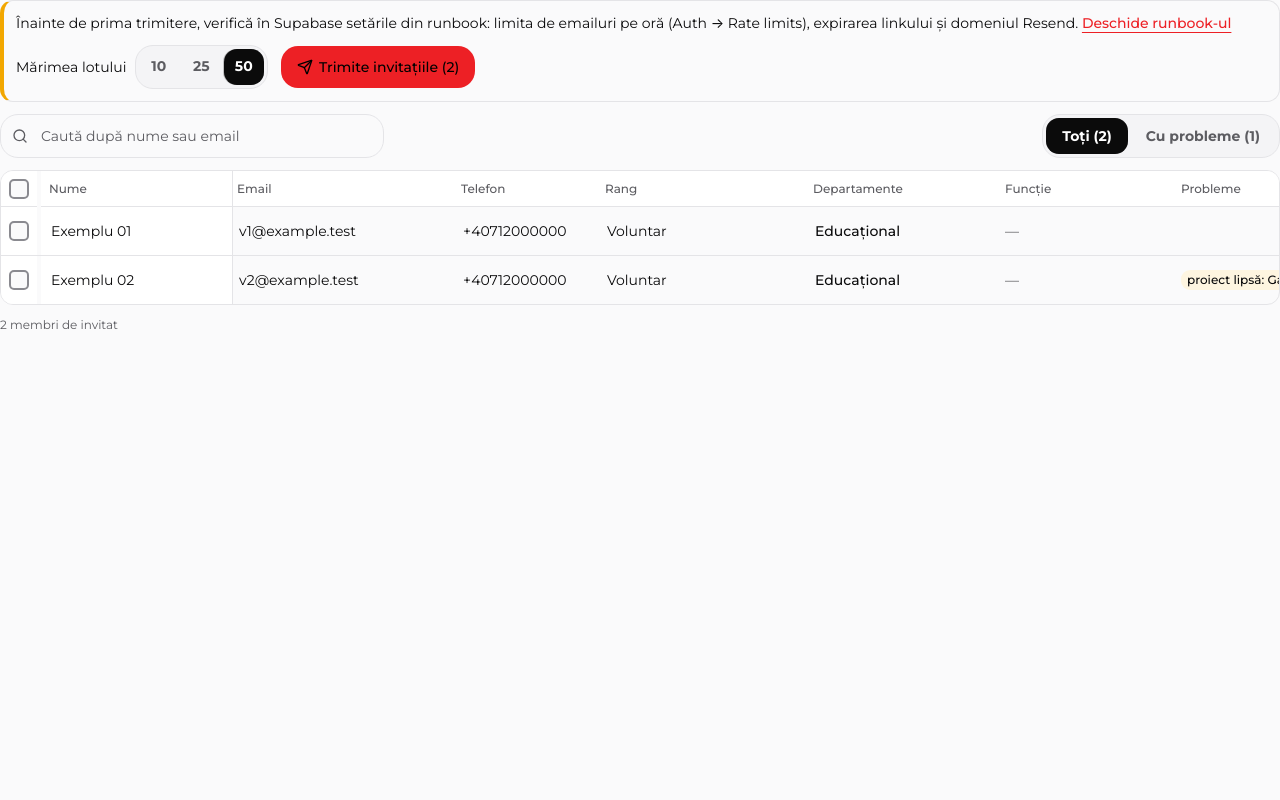
Test: the grid › filters by name or email and by "Cu probleme"
Type "v1@" into the search field labelled "Caută după nume sau email". click: (192, 136)
box: [0,114,384,158]
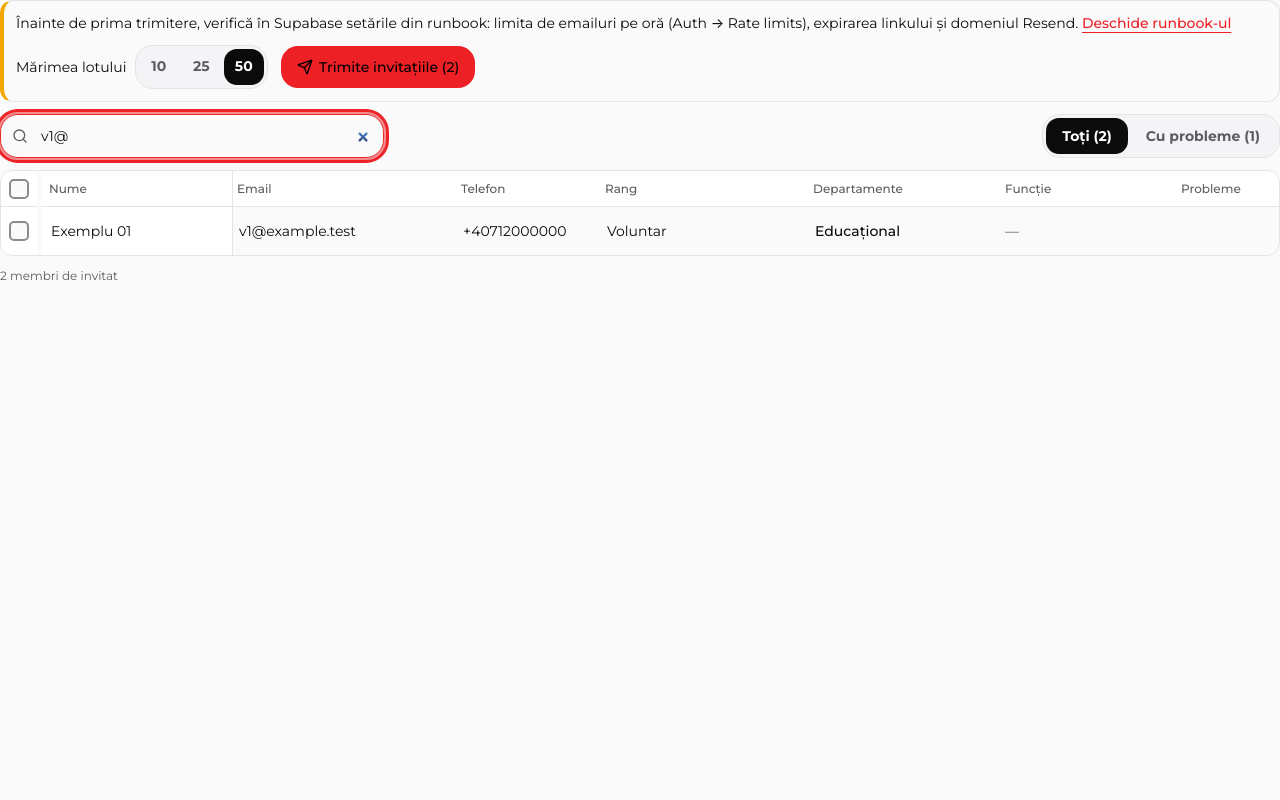
Check: the text "Exemplu 01" is shown, box [51,224,131,238]
Check: the button "Exemplu 02" is gone
Clear the search field named "Caută după nume sau email". click: (192, 136)
box: [0,114,384,158]
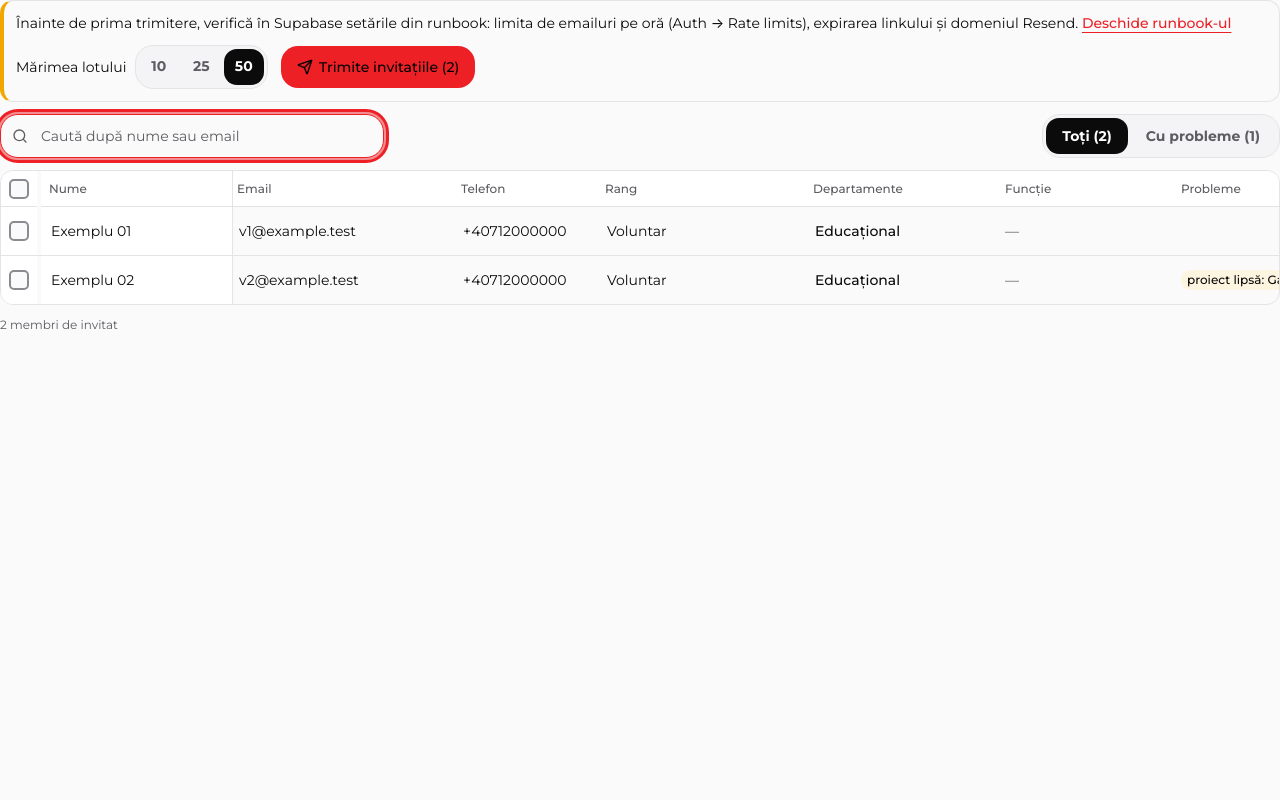
Click the button "Cu probleme (1)". click: (1203, 136)
box: [1130,118,1276,154]
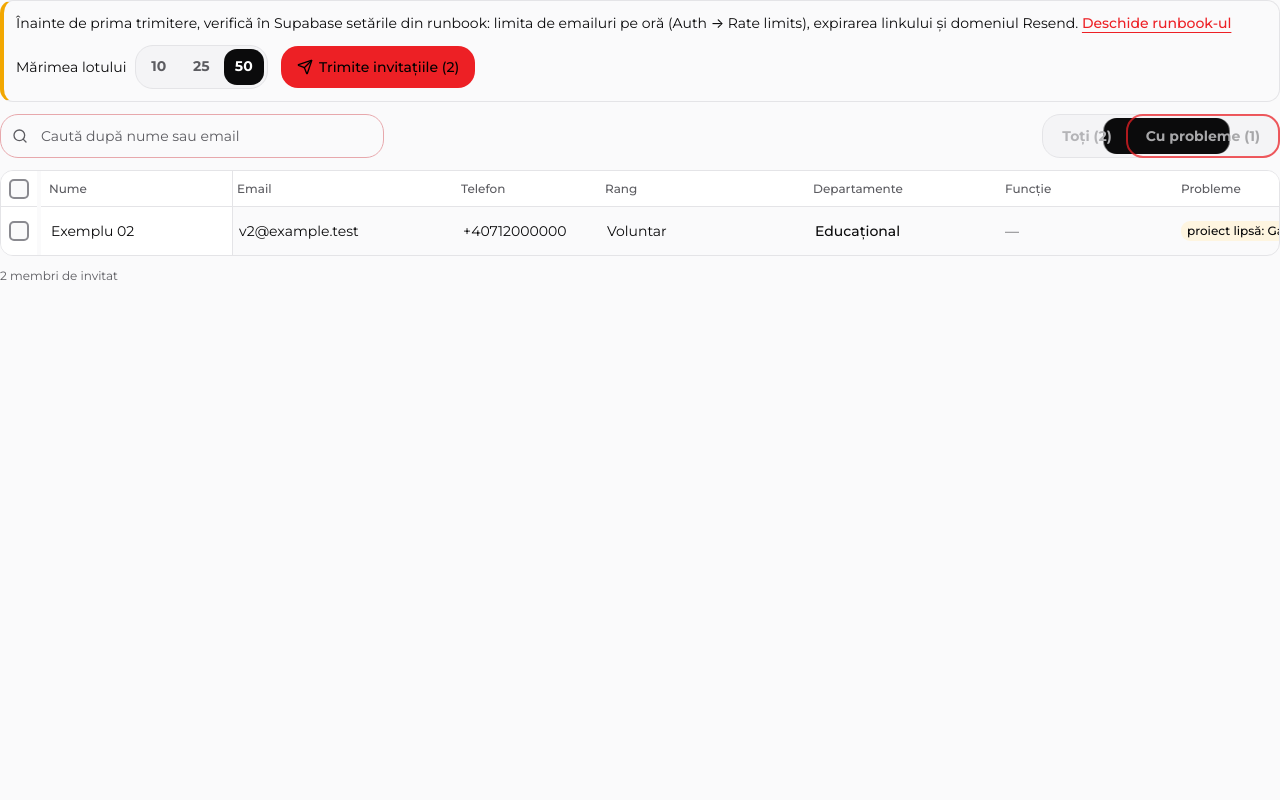
Check: the text "Exemplu 02" is shown, box [51,224,134,238]
Check: the button "Exemplu 01" is gone
